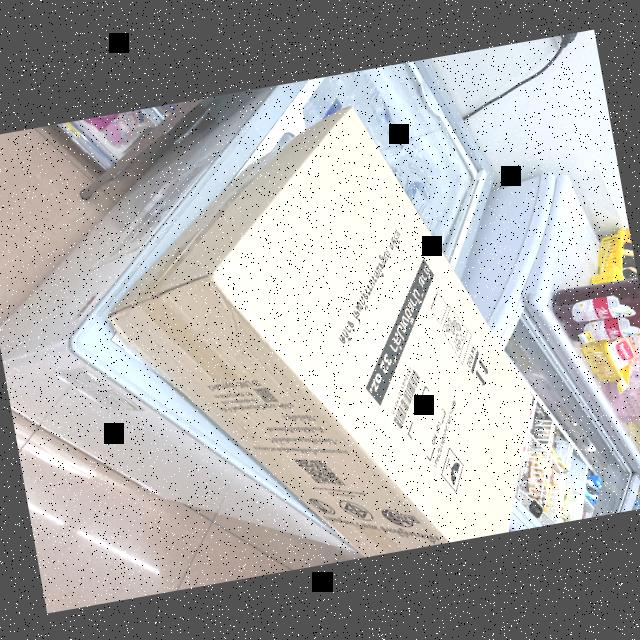cardboard_box: (80, 82, 556, 592)
